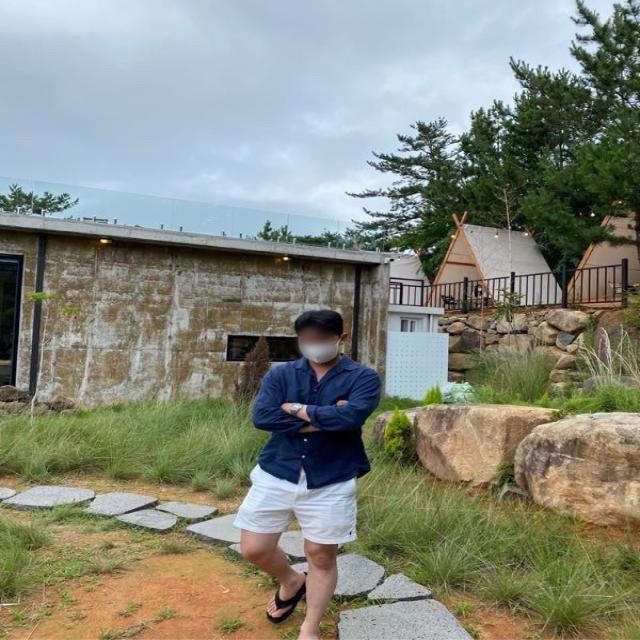shirt: (251, 353, 381, 485)
shortpants: (232, 466, 359, 543)
